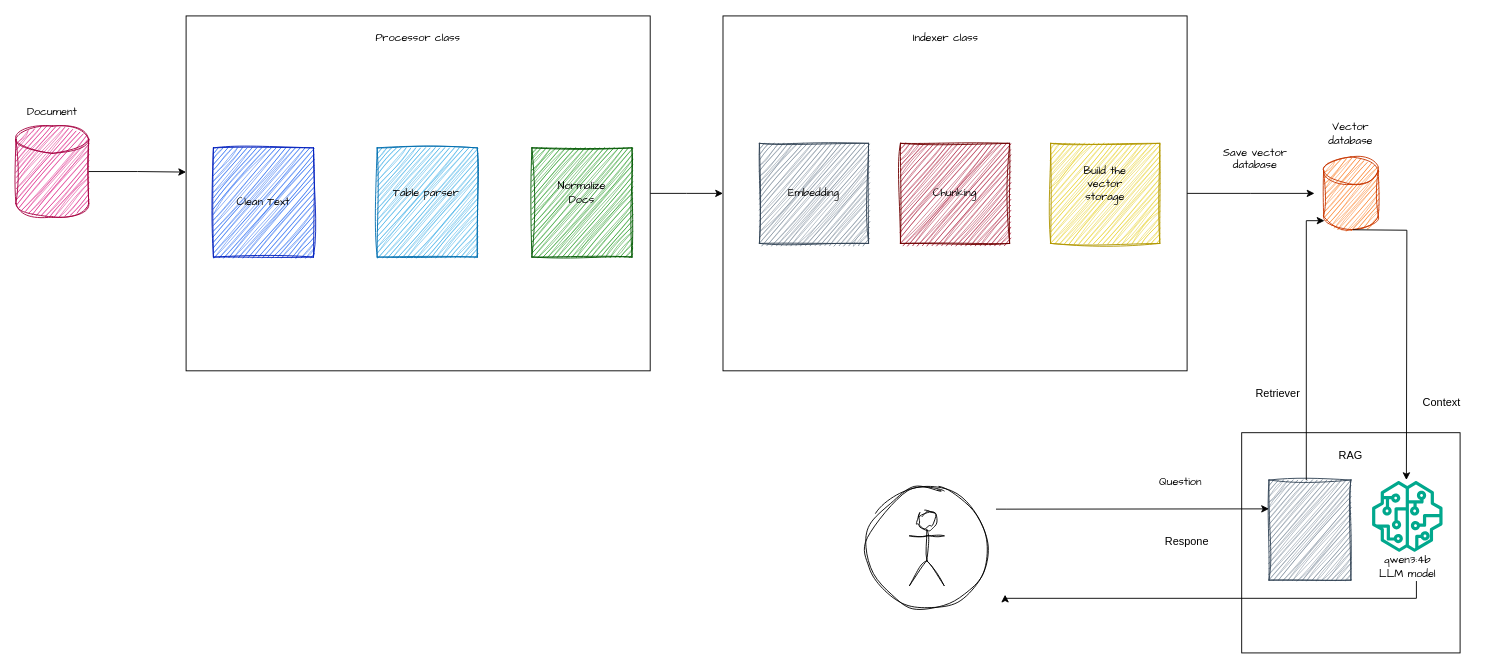
This 1485x669 diagram has some shape labels left out. Each missing label, with the centre of its shape:
Retriever & Filter Method: the point at 1309,529
Users: the point at 926,548
